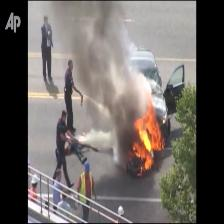fire: (114, 108, 176, 182)
smoke: (46, 0, 147, 115)
